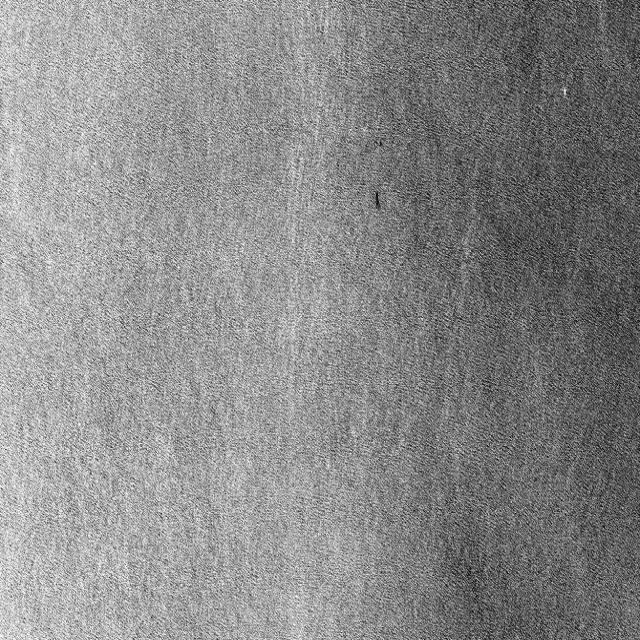oil-spill: (370, 187, 385, 218), (374, 134, 388, 158)
ship: (556, 78, 572, 105)
